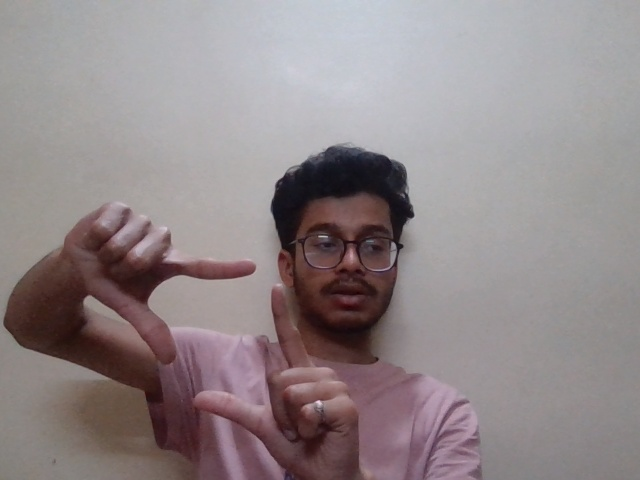video: (48, 199, 367, 458)
